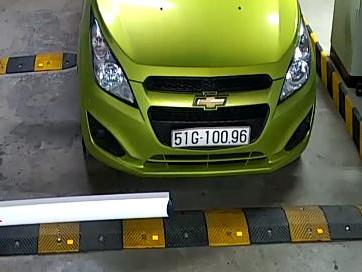number: (172, 128, 251, 149)
